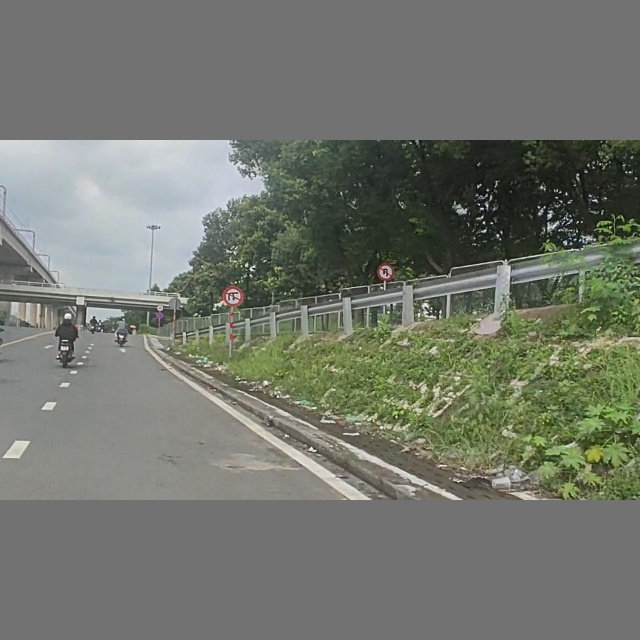P.124a*: (377, 263, 395, 281)
P.124d: (223, 286, 245, 307)
P.127*40: (156, 303, 165, 311)
P.130: (157, 312, 164, 319)
